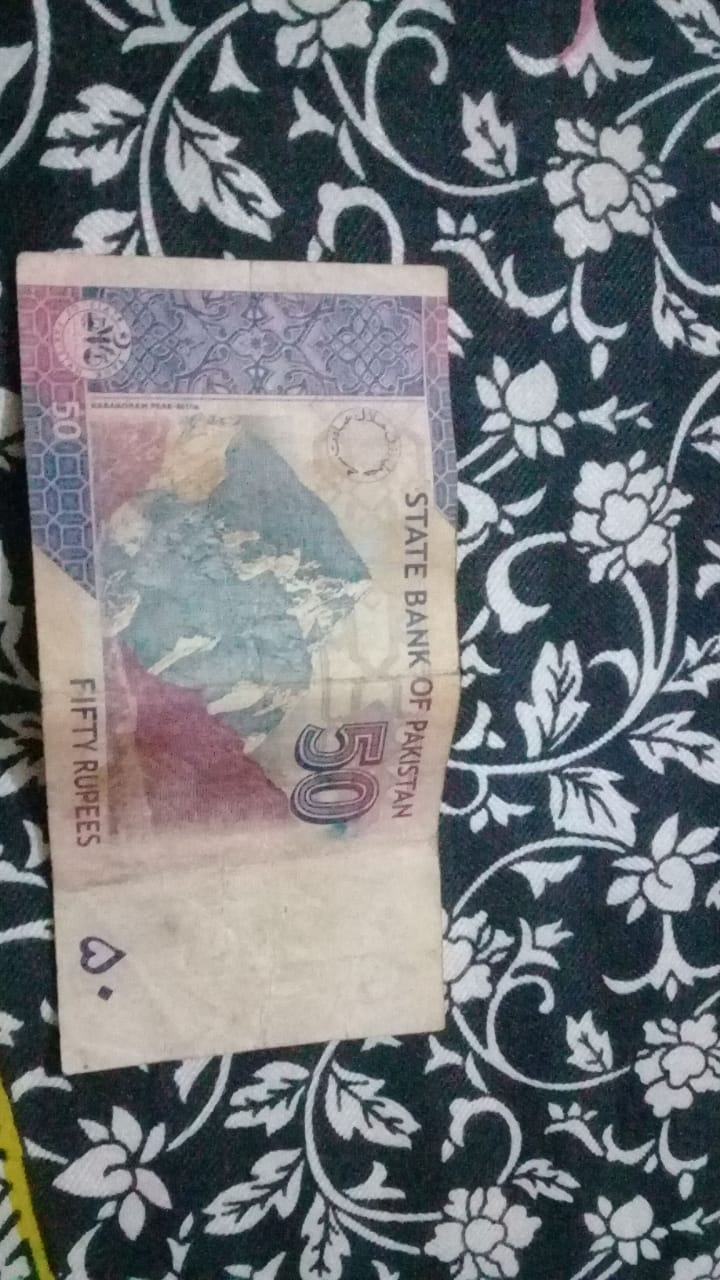50 rupee: (11, 237, 485, 1103)
